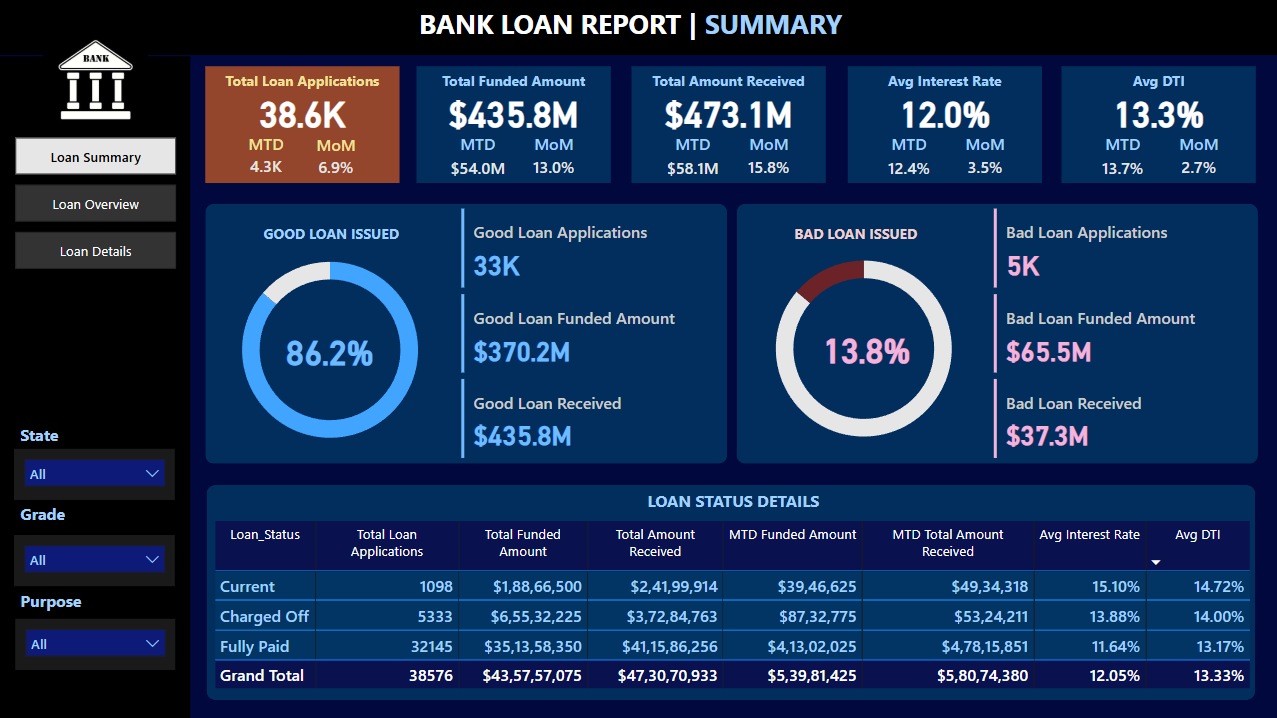

Layout of this report page (visuals, bound fields, positions):
{"tool":"powerbi","page":{"name":"Loan Summary","canvas":[1280,720],"ordinal":0},"visuals":[{"type":"shape","box":[0,55.7,191.4,664.3],"z":0},{"type":"shape","box":[205.7,65.7,194.3,117.1],"z":0,"group":"g1"},{"type":"shape","box":[632,66,194.3,117.1],"z":0,"group":"g3"},{"type":"shape","box":[849,66,194.3,117.1],"z":0,"group":"g4"},{"type":"shape","box":[1063,66,194.3,117.1],"z":0,"group":"g5"},{"type":"shape","box":[417.8,66.1,194.3,117.1],"z":0,"group":"g2"},{"type":"card","fields":{"Values":["BankLoanData.Total Loan Applications"]},"box":[205.7,86.4,194.3,48.6],"z":1000,"group":"g1"},{"type":"card","fields":{"Values":["BankLoanData.Total Amount Received"]},"box":[632,86.7,194.3,48.6],"z":1000,"group":"g3"},{"type":"card","fields":{"Values":["BankLoanData.Avg Interest Rate"]},"box":[849,86.7,194.3,48.6],"z":1000,"group":"g4"},{"type":"card","fields":{"Values":["BankLoanData.Avg DTI"]},"box":[1063,86.7,194.3,48.6],"z":1000,"group":"g5"},{"type":"card","fields":{"Values":["BankLoanData.Total Funded Amount"]},"box":[417.8,86.8,194.3,48.6],"z":1000,"group":"g2"},{"type":"shape","box":[207.5,485,1048.8,215],"z":1000},{"type":"textbox","box":[205.7,65.7,194.3,31.4],"z":2000,"group":"g1"},{"type":"textbox","box":[632,66,194.3,31.4],"z":2000,"group":"g3"},{"type":"textbox","box":[849,66,194.3,31.4],"z":2000,"group":"g4"},{"type":"textbox","box":[1063,66,194.3,31.4],"z":2000,"group":"g5"},{"type":"textbox","box":[417.8,66.1,194.3,31.4],"z":2000,"group":"g2"},{"type":"shape","box":[205.7,204.3,522,260],"z":2000},{"type":"shape","box":[0,0,1280,55],"z":3000},{"type":"card","title":"MTD","fields":{"Values":["BankLoanData.MTD Total Amount Received"]},"box":[656.3,132.1,75.2,53.8],"z":3000,"group":"g3"},{"type":"card","title":"MTD","fields":{"Values":["BankLoanData.MTD Avg Int Rate"]},"box":[873.3,132.1,75.2,53.8],"z":3000,"group":"g4"},{"type":"card","title":"MTD","fields":{"Values":["BankLoanData.MTD Avg DTI"]},"box":[1087.3,132.1,75.2,53.8],"z":3000,"group":"g5"},{"type":"card","title":"MTD","fields":{"Values":["BankLoanData.MTD Funded Amount"]},"box":[442.1,132.2,75.2,53.8],"z":3000,"group":"g2"},{"type":"card","title":"MTD","fields":{"Values":["BankLoanData.MTD Loan Applications"]},"box":[230.3,132.5,71.7,48.9],"z":3000,"group":"g1"},{"type":"card","title":"MoM","fields":{"Values":["BankLoanData.MOM Total Amount Received"]},"box":[737.3,131.7,64.8,51.4],"z":4000,"group":"g3"},{"type":"card","title":"MoM","fields":{"Values":["BankLoanData.MOM Avg Int Rate"]},"box":[954.3,131.7,64.8,51.4],"z":4000,"group":"g4"},{"type":"card","title":"MoM","fields":{"Values":["BankLoanData.MOM Avg DTI"]},"box":[1168.3,131.7,64.8,51.4],"z":4000,"group":"g5"},{"type":"card","title":"MoM","fields":{"Values":["BankLoanData.MOM Funded Amount"]},"box":[523.1,131.8,64.8,51.4],"z":4000,"group":"g2"},{"type":"card","title":"MoM","fields":{"Values":["BankLoanData.MOM Loan Applications"]},"box":[302.5,133.6,68.9,48.3],"z":4000,"group":"g1"},{"type":"textbox","box":[234.5,218.2,194.5,31.8],"z":4000},{"type":"card","fields":{"Values":["BankLoanData.Good Loan %"]},"box":[234.3,325.7,194.3,48.6],"z":5000},{"type":"textbox","box":[415,0,450,56],"z":6000},{"type":"group","id":"g1","title":"Group 1","box":[205.7,65.7,194.3,117.1],"z":7000},{"type":"group","id":"g2","title":"Group 1","box":[417.8,66.1,194.3,120],"z":8000},{"type":"group","id":"g3","title":"Group 1","box":[632,66,193,120],"z":9000},{"type":"group","id":"g4","title":"Group 1","box":[849,66,193,120],"z":10000},{"type":"group","id":"g5","title":"Group 1","box":[1063,66,194,120],"z":11000},{"type":"donutChart","fields":{"Category":["BankLoanData.Good vs Bad Loan"],"Y":["BankLoanData.Total Loan Applications"]},"box":[206.2,235,250,230],"z":12000},{"type":"shape","box":[737.1,204.3,521.4,260],"z":13000},{"type":"cardVisual","fields":{"Data":["BankLoanData.Good Loan Applications","BankLoanData.Good Loan Funded Amount","BankLoanData.Good Loan Received"]},"box":[457.5,203.8,262.5,260],"z":14000},{"type":"donutChart","fields":{"Category":["BankLoanData.Good vs Bad Loan"],"Y":["BankLoanData.Total Loan Applications"]},"box":[740,233.8,250,230],"z":15000},{"type":"card","fields":{"Values":["BankLoanData.Bad Loan %"]},"box":[770,325,195,47.5],"z":16000},{"type":"textbox","box":[760,218.8,193.8,31.2],"z":17000},{"type":"cardVisual","fields":{"Data":["BankLoanData.Bad Loan Applications","BankLoanData.Bad Loan Funded Amount","BankLoanData.Bad Loan Received"]},"box":[990,203.8,262.5,260],"z":18000},{"type":"tableEx","fields":{"Values":["BankLoanData.Loan_Status","BankLoanData.Total Loan Applications","BankLoanData.Total Funded Amount","BankLoanData.Total Amount Received","BankLoanData.MTD Funded Amount","BankLoanData.MTD Total Amount Received","BankLoanData.Avg Interest Rate","BankLoanData.Avg DTI"]},"box":[210,516.2,1046.2,183.8],"z":19000},{"type":"textbox","box":[637.5,485,193.8,31.2],"z":20000},{"type":"slicer","fields":{"Values":["BankLoanData.State"]},"box":[15,448.2,161,51],"z":21000},{"type":"textbox","box":[15.7,418.6,100,31.4],"z":22000},{"type":"slicer","fields":{"Values":["BankLoanData.Grade"]},"box":[15,535.5,161,51],"z":23000},{"type":"textbox","box":[15.7,497.3,135.7,40],"z":24000},{"type":"textbox","box":[15.7,584.7,115.7,45.7],"z":25000},{"type":"slicer","fields":{"Values":["BankLoanData.Purpose"]},"box":[15.7,618.6,160,51.4],"z":26000},{"type":"pageNavigator","box":[15.7,137.1,161.4,132.9],"z":27000},{"type":"image","box":[15.7,22.9,160,114.3],"z":28000}]}

Visuals, with their boxes in screenshot pixels (x1, y1, x2, y2), scaled from the page's 1280x720 canvas onto the 1277x718 screenshot:
shape: <box>0,56,191,717</box>
shape: <box>205,66,399,182</box>
shape: <box>631,66,824,183</box>
shape: <box>847,66,1041,183</box>
shape: <box>1061,66,1254,183</box>
shape: <box>417,66,611,183</box>
card - BankLoanData.Total Loan Applications: <box>205,86,399,135</box>
card - BankLoanData.Total Amount Received: <box>631,86,824,135</box>
card - BankLoanData.Avg Interest Rate: <box>847,86,1041,135</box>
card - BankLoanData.Avg DTI: <box>1061,86,1254,135</box>
card - BankLoanData.Total Funded Amount: <box>417,87,611,135</box>
shape: <box>207,484,1253,698</box>
textbox: <box>205,66,399,97</box>
textbox: <box>631,66,824,97</box>
textbox: <box>847,66,1041,97</box>
textbox: <box>1061,66,1254,97</box>
textbox: <box>417,66,611,97</box>
shape: <box>205,204,726,463</box>
shape: <box>0,0,1276,55</box>
"MTD" card: <box>655,132,730,185</box>
"MTD" card: <box>871,132,946,185</box>
"MTD" card: <box>1085,132,1160,185</box>
"MTD" card: <box>441,132,516,185</box>
"MTD" card: <box>230,132,301,181</box>
"MoM" card: <box>736,131,800,183</box>
"MoM" card: <box>952,131,1017,183</box>
"MoM" card: <box>1166,131,1230,183</box>
"MoM" card: <box>522,131,587,183</box>
"MoM" card: <box>302,133,371,181</box>
textbox: <box>234,218,428,249</box>
card - BankLoanData.Good Loan %: <box>234,325,428,373</box>
textbox: <box>414,0,863,56</box>
"Group 1" group: <box>205,66,399,182</box>
"Group 1" group: <box>417,66,611,186</box>
"Group 1" group: <box>631,66,823,185</box>
"Group 1" group: <box>847,66,1040,185</box>
"Group 1" group: <box>1061,66,1254,185</box>
donutChart - BankLoanData.Good vs Bad Loan x BankLoanData.Total Loan Applications: <box>206,234,455,464</box>
shape: <box>735,204,1256,463</box>
cardVisual - BankLoanData.Good Loan Applications x BankLoanData.Good Loan Funded Amount: <box>456,203,718,463</box>
donutChart - BankLoanData.Good vs Bad Loan x BankLoanData.Total Loan Applications: <box>738,233,988,463</box>
card - BankLoanData.Bad Loan %: <box>768,324,963,371</box>
textbox: <box>758,218,952,249</box>
cardVisual - BankLoanData.Bad Loan Applications x BankLoanData.Bad Loan Funded Amount: <box>988,203,1250,463</box>
tableEx - BankLoanData.Loan_Status x BankLoanData.Total Loan Applications: <box>210,515,1253,698</box>
textbox: <box>636,484,829,515</box>
slicer - BankLoanData.State: <box>15,447,176,498</box>
textbox: <box>16,417,115,449</box>
slicer - BankLoanData.Grade: <box>15,534,176,585</box>
textbox: <box>16,496,151,536</box>
textbox: <box>16,583,131,629</box>
slicer - BankLoanData.Purpose: <box>16,617,175,668</box>
pageNavigator: <box>16,137,177,269</box>
image: <box>16,23,175,137</box>
